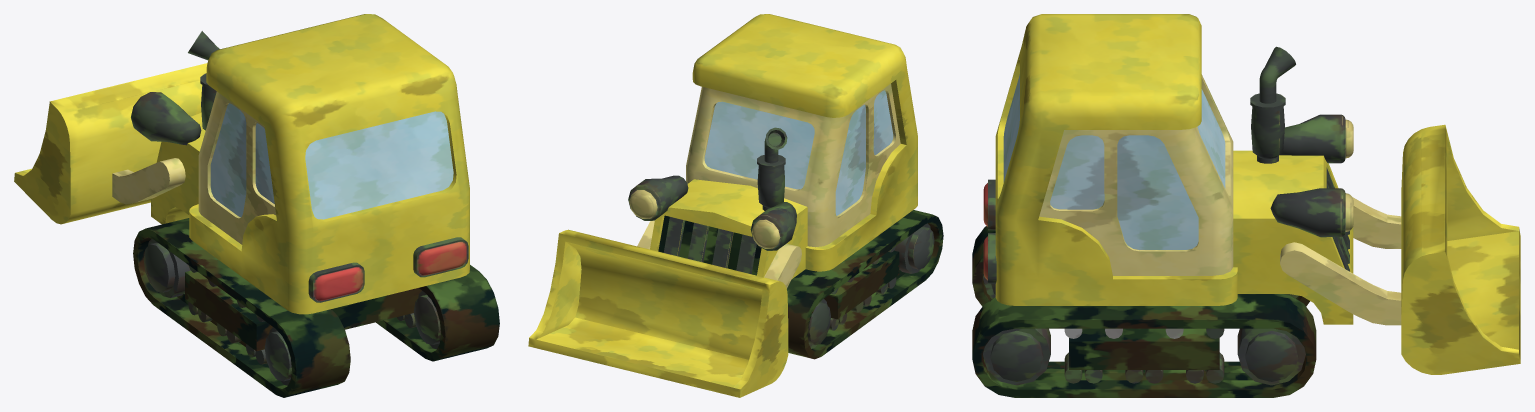
The model's file is Tractopelle 1.fbx.
3 renders of one model, left to right at view 1: azimuth 30°, elevation 25°; view 2: azimuth 150°, elevation 25°; view 3: azimuth 270°, elevation 25°, orthographic. The views are drawn at different scales.
Visible parts, largest first — view 1: Cylinder.005; view 2: Cylinder.005; view 3: Cylinder.005.
Part boxes in pixels (<box>): Cylinder.005: <box>14,14,499,397</box>; Cylinder.005: <box>528,14,943,397</box>; Cylinder.005: <box>972,14,1520,397</box>.
Bounding box in the file's own units: 275 × 295 × 502.
